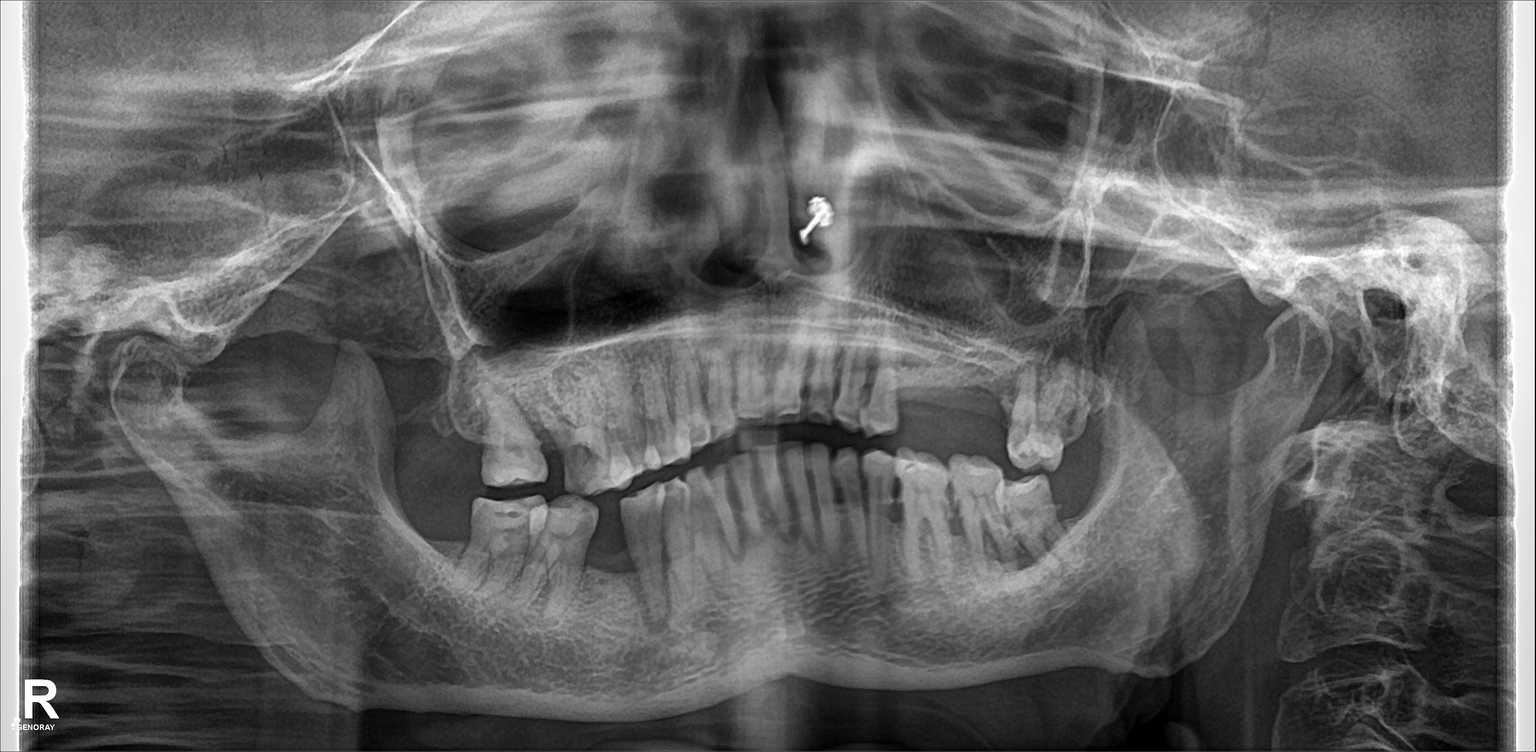Dental Caries: (564, 434, 600, 490)
Missing Tooth: (432, 365, 487, 465), (924, 352, 979, 451), (380, 369, 426, 466), (587, 508, 627, 617), (412, 488, 462, 572), (894, 352, 930, 444), (1060, 463, 1097, 547), (974, 352, 1006, 444)
